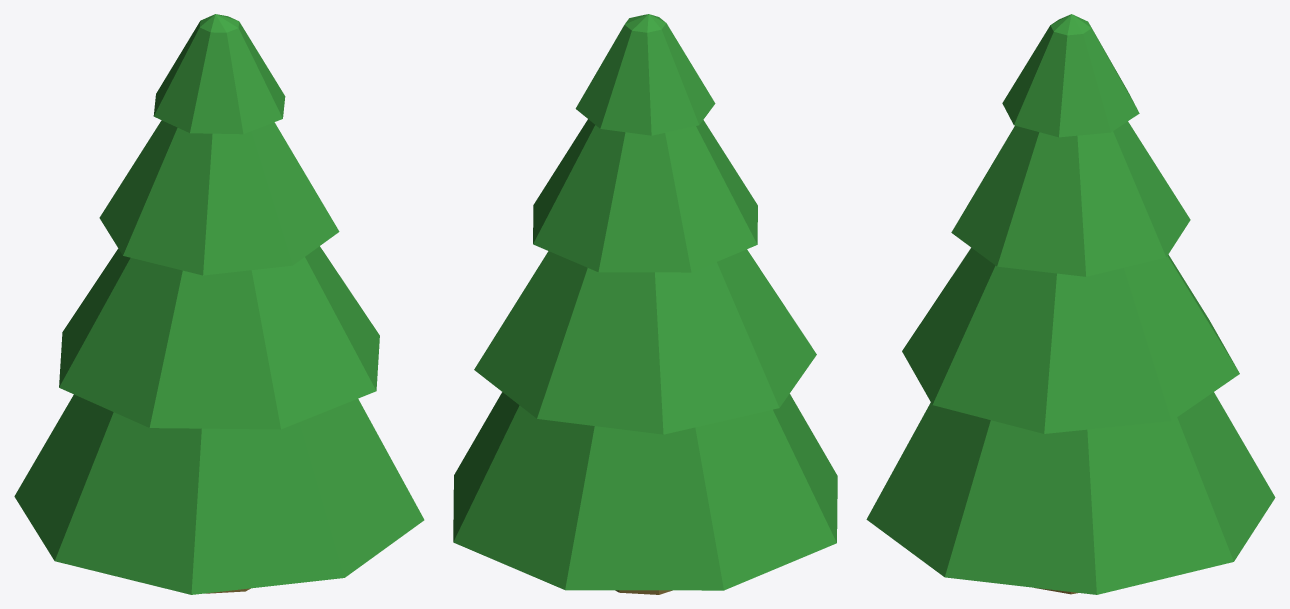
The model's file is PineTree.glb.
3 views of the same model, side by side, from view 1: azimuth 30°, elevation 25°; view 2: azimuth 150°, elevation 25°; view 3: azimuth 270°, elevation 25° (orthographic).
Visible parts, largest first — view 1: Cylinder.002, Cylinder.001, Cylinder.003, Cylinder.004; view 2: Cylinder.002, Cylinder.001, Cylinder.003, Cylinder.004; view 3: Cylinder.002, Cylinder.001, Cylinder.003, Cylinder.004.
Part boxes in pixels (left/top/right/bottom): Cylinder.002: left=14, top=394, right=424, bottom=594; Cylinder.001: left=59, top=246, right=379, bottom=429; Cylinder.003: left=99, top=120, right=339, bottom=275; Cylinder.004: left=153, top=14, right=285, bottom=134; Cylinder.002: left=453, top=392, right=837, bottom=590; Cylinder.001: left=474, top=249, right=816, bottom=434; Cylinder.003: left=533, top=119, right=757, bottom=272; Cylinder.004: left=575, top=14, right=715, bottom=135; Cylinder.002: left=866, top=392, right=1275, bottom=594; Cylinder.001: left=902, top=247, right=1239, bottom=433; Cylinder.003: left=951, top=121, right=1190, bottom=276; Cylinder.004: left=1002, top=14, right=1139, bottom=137.
Size of the model in its own units: 3.96 by 5.94 by 3.96.
